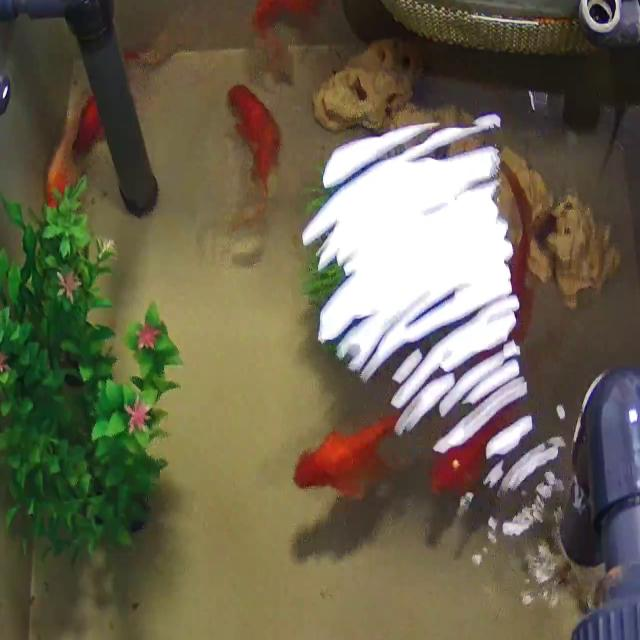fish: (279, 408, 418, 495), (229, 73, 284, 246), (433, 396, 512, 515), (30, 72, 95, 202), (248, 0, 352, 49)
